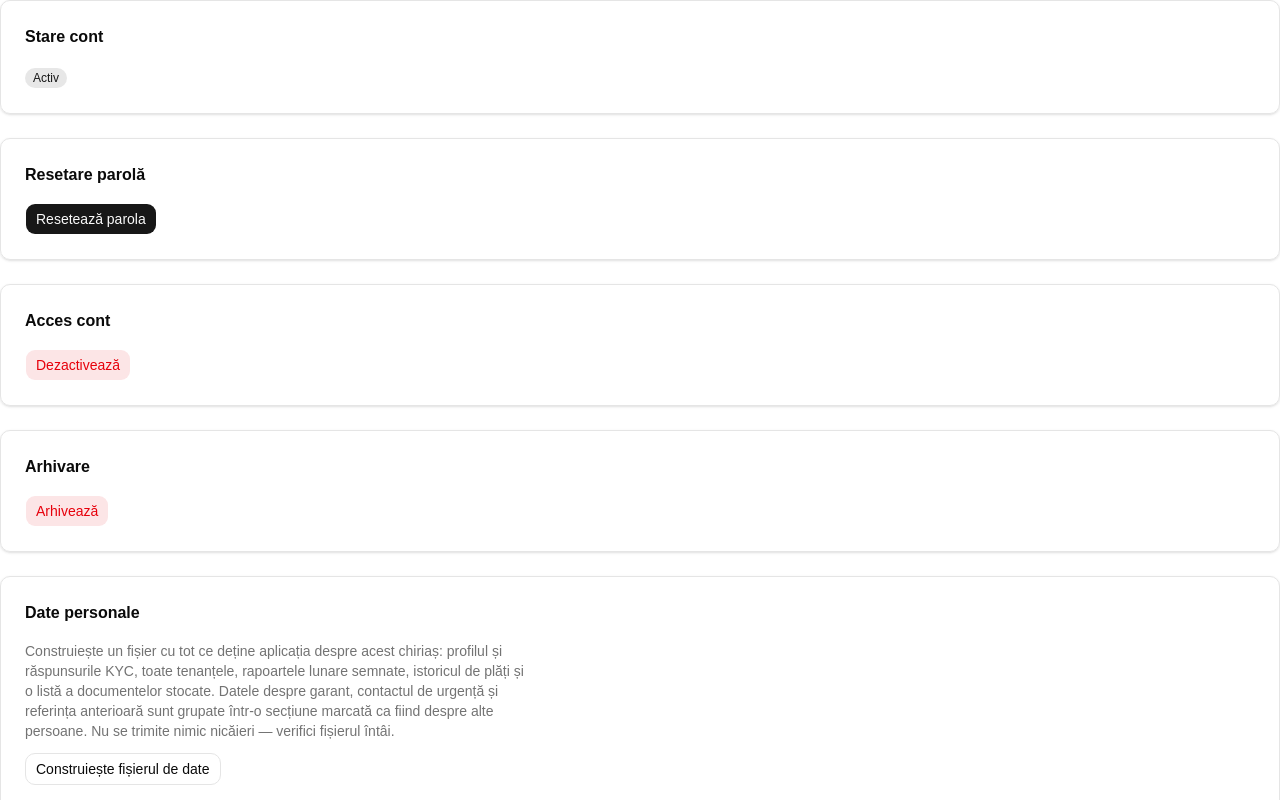
it: AccountTab — Personal data export (FR-TEN-26) › builds the bundle and opens a review dialog before anything leaves
Click the button "Construiește fișierul de date".
click(123, 769)  # box top-left (25, 753), bottom-right (220, 785)
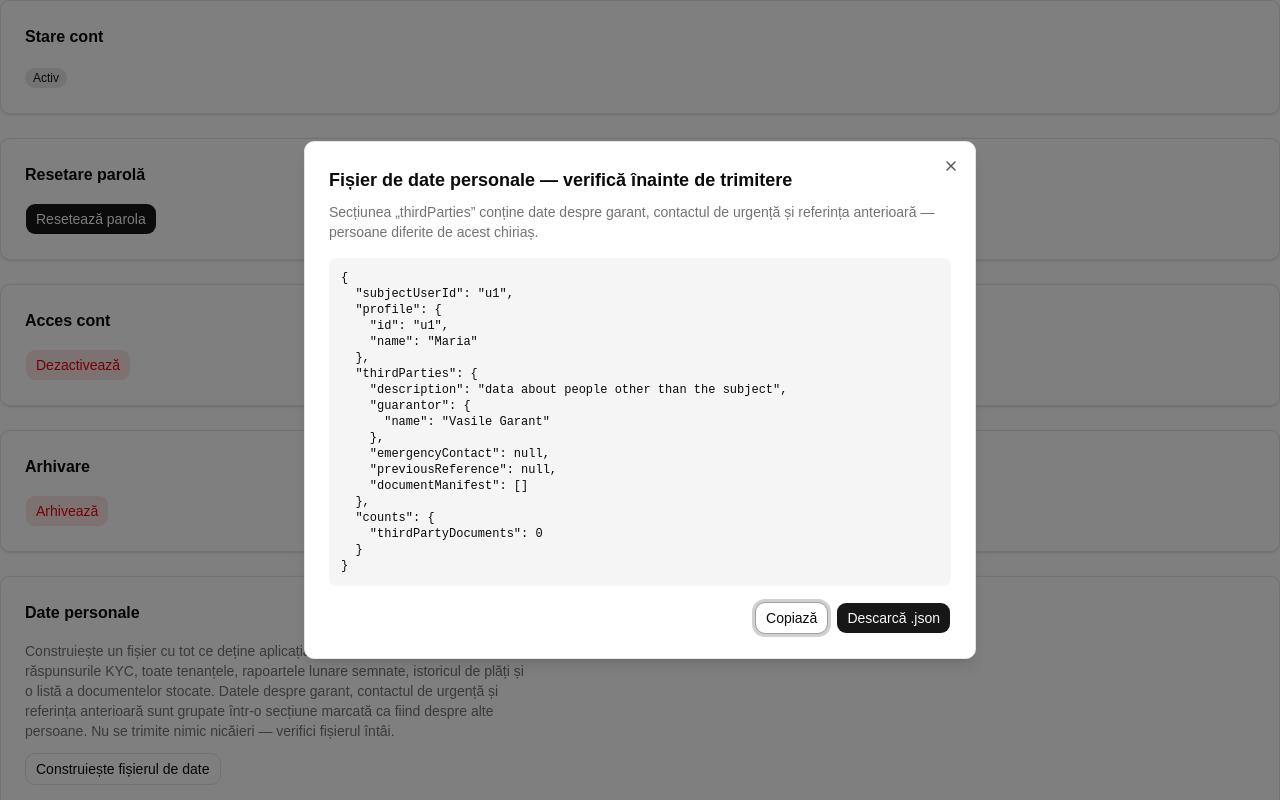
Expected: the heading "Fișier de date personale — verifică înainte de trimitere" is shown, top-left (329, 170), bottom-right (792, 190)
Expected: the text "„thirdParties”" is shown, top-left (329, 204), bottom-right (934, 240)
Expected: the text "\"subjectUserId\": \"u1\"" is shown, top-left (341, 271), bottom-right (788, 573)
